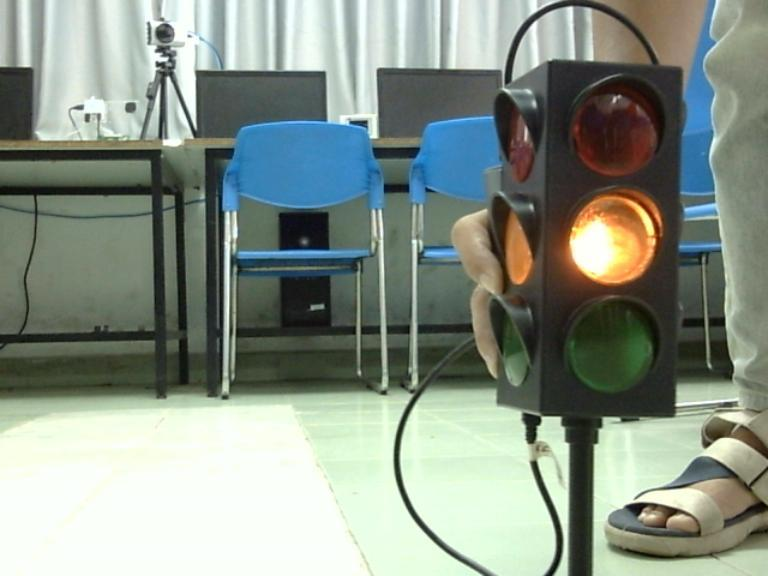yellow: (562, 182, 666, 287)
